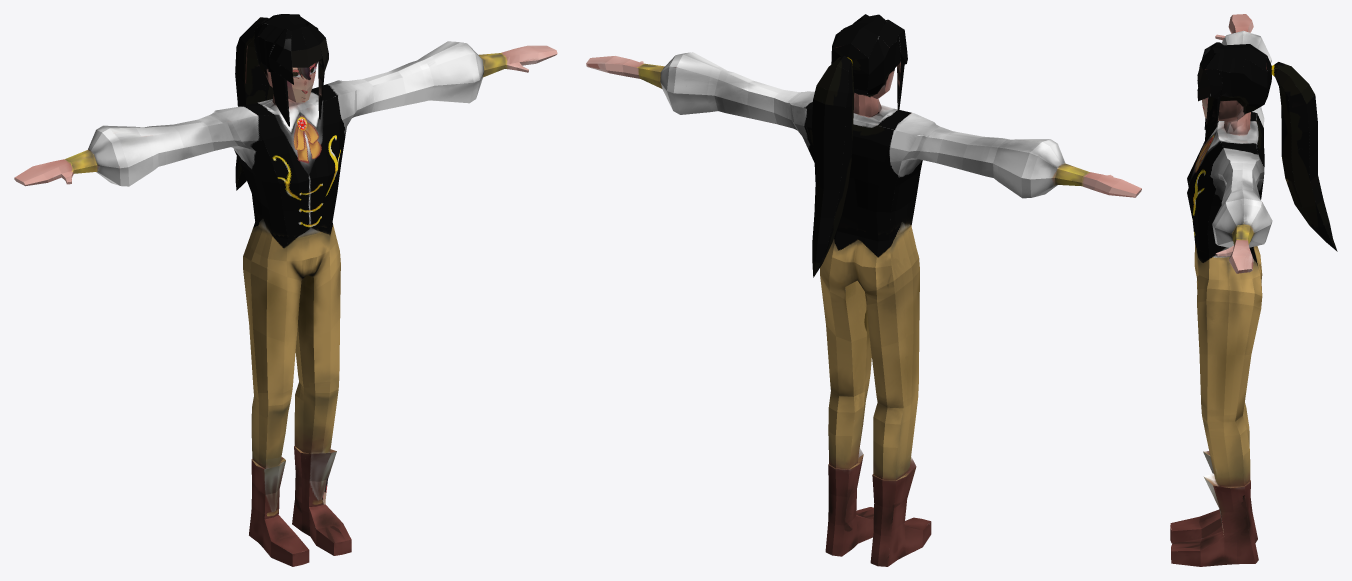
The model's file is erin (1).fbx.
3 views of the same model, side by side, from view 1: azimuth 30°, elevation 25°; view 2: azimuth 150°, elevation 25°; view 3: azimuth 270°, elevation 25° (orthographic). The views are drawn at different scales.
Visible parts, largest first — view 1: Plane; view 2: Plane; view 3: Plane.
Boxes of the visible parts, <box> form: Plane: <box>14,14,557,566</box>; Plane: <box>586,14,1141,566</box>; Plane: <box>1170,14,1337,566</box>.
Size of the model in its own units: 1255 by 1152 by 348.
